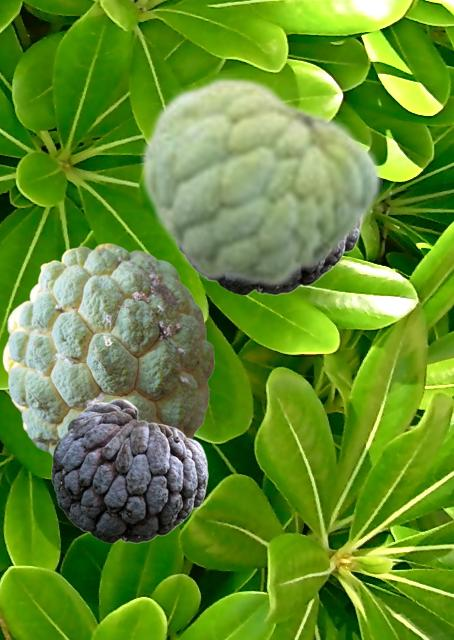atis: (138, 74, 381, 289), (2, 243, 213, 456), (51, 398, 207, 542), (213, 232, 360, 294)
